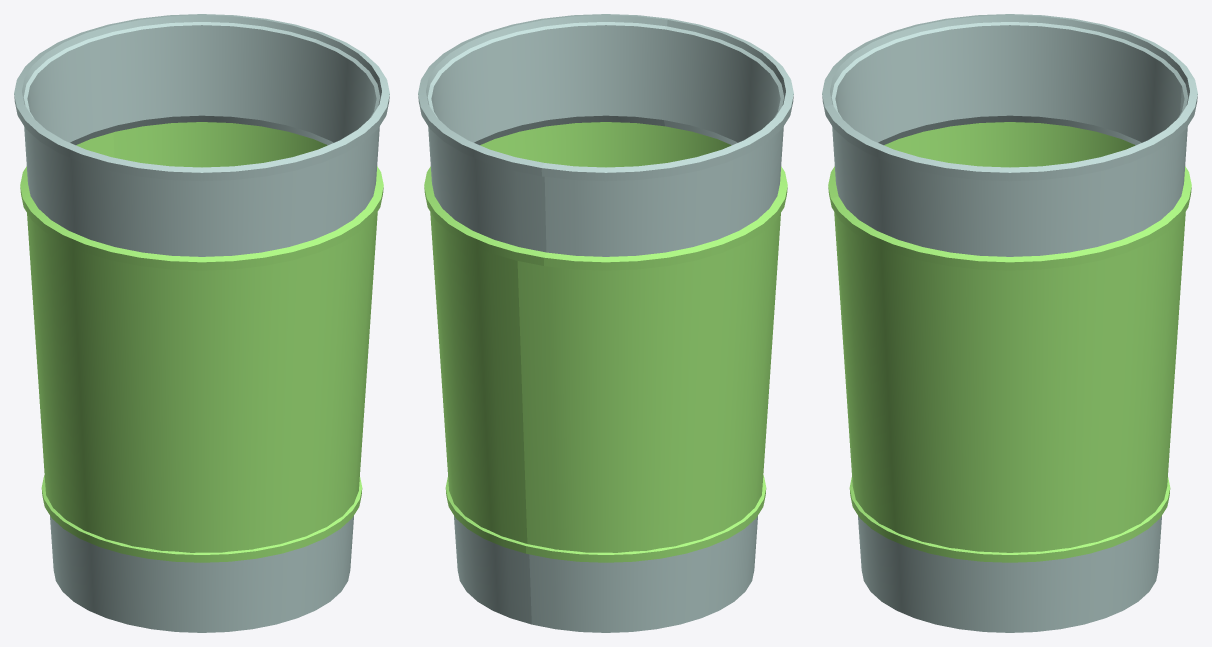
3 views of the same model, side by side, from view 1: azimuth 30°, elevation 25°; view 2: azimuth 150°, elevation 25°; view 3: azimuth 270°, elevation 25° (orthographic).
Visible parts, largest first — view 1: cup_for_pen; view 2: cup_for_pen; view 3: cup_for_pen.
Part boxes in pixels (x1,y1,x2,y2): cup_for_pen: (14, 14, 389, 632); cup_for_pen: (418, 14, 793, 632); cup_for_pen: (822, 14, 1197, 632).
Bounding box in the file's own units: 686 × 964 × 686.
